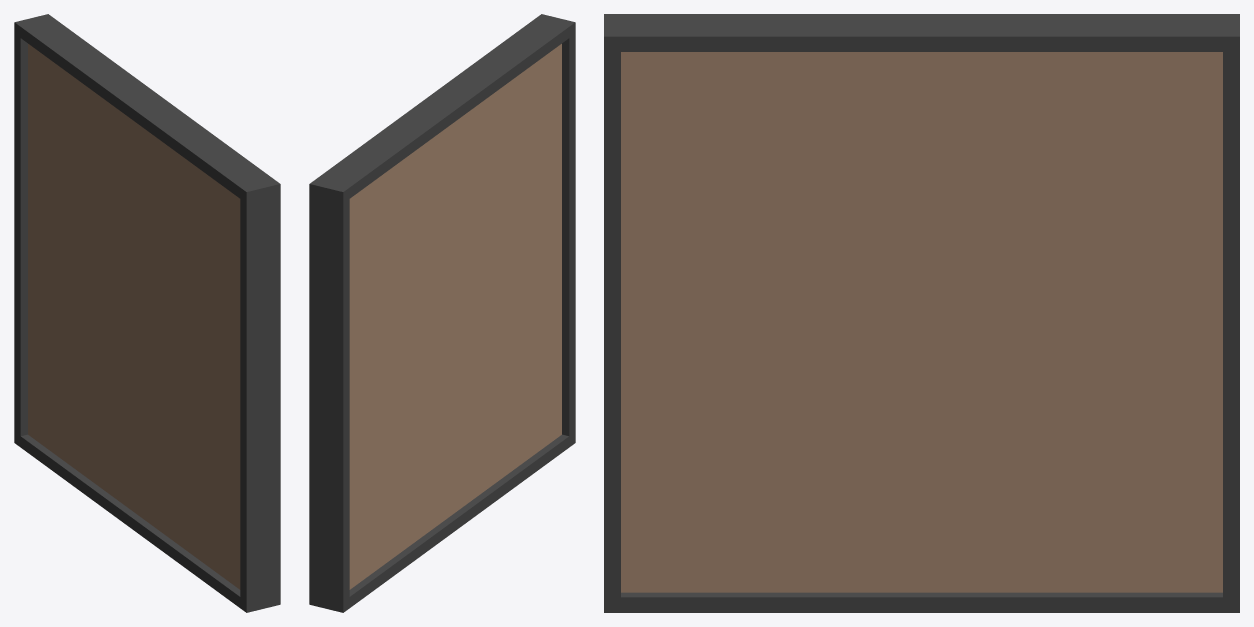
File: Bulletin board.fbx
3 renders of one model, left to right at view 1: azimuth 30°, elevation 25°; view 2: azimuth 150°, elevation 25°; view 3: azimuth 270°, elevation 25°, orthographic. The views are drawn at different scales.
Visible parts, largest first — view 1: Cube, Cube.001; view 2: Cube, Cube.001; view 3: Cube, Cube.001.
Part boxes in pixels (box(x1,y1,x2,y2)): Cube: box(28, 44, 240, 589); Cube.001: box(14, 14, 280, 612); Cube: box(349, 44, 561, 589); Cube.001: box(309, 14, 575, 612); Cube: box(621, 52, 1222, 592); Cube.001: box(604, 14, 1239, 612).
Size of the model in its own units: 93.1 by 1105 by 1105.
